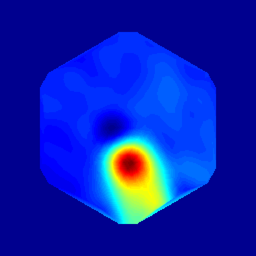ship: (96, 116, 129, 149)
wave: (108, 139, 154, 214)
